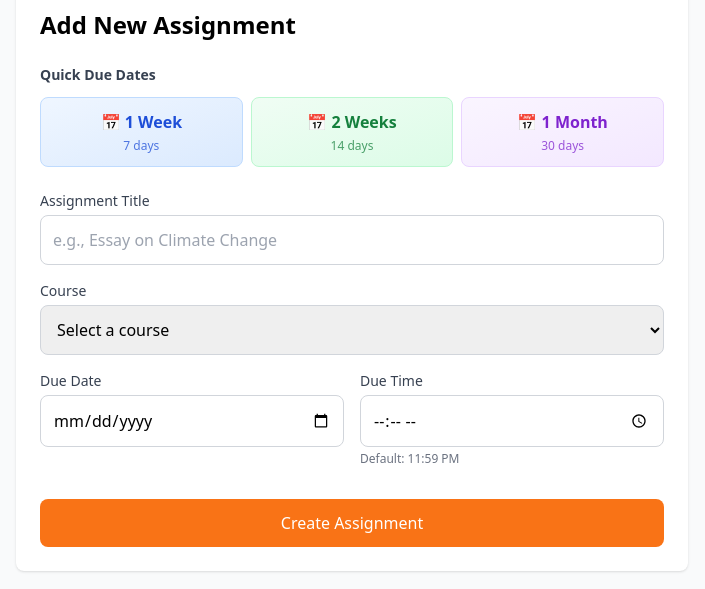
Test: AddAssignmentComponent › Quick Due Date Buttons › sets due date and time when 1 Week button is clicked
Step 1. Click the button "📅 1 Week 7 days" → (141, 132), box x1=40 y1=97 x2=243 y2=167
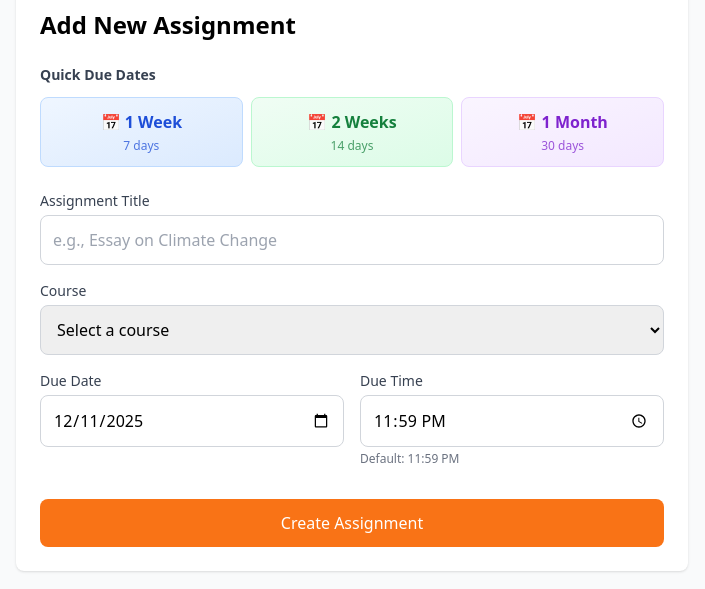
Expected: the time field showing "23:59" is shown, x1=360 y1=395 x2=664 y2=447
